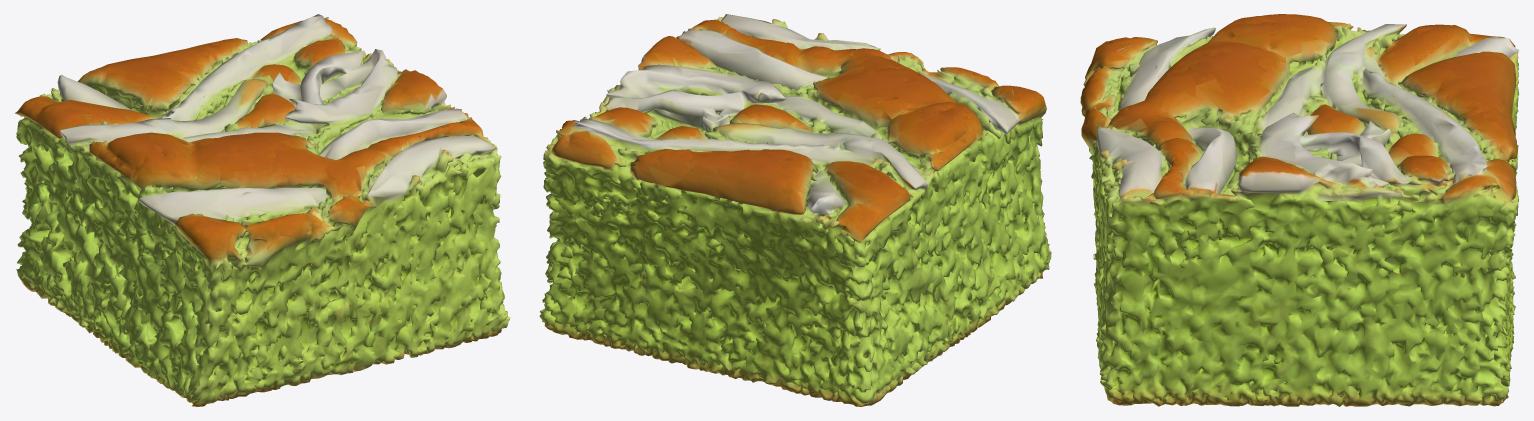
The model's file is pandan.glb.
3 renders of one model, left to right at view 1: azimuth 30°, elevation 25°; view 2: azimuth 150°, elevation 25°; view 3: azimuth 270°, elevation 25°, orthographic. The views are drawn at different scales.
Visible parts, largest first — view 1: garlic; view 2: garlic; view 3: garlic.
Boxes of the visible parts, <box> form: garlic: <box>15,14,510,406</box>; garlic: <box>539,14,1051,406</box>; garlic: <box>1080,14,1519,406</box>.
Size of the model in its own units: 0.9722 by 0.5869 by 1.
1 material, 1 textured.
